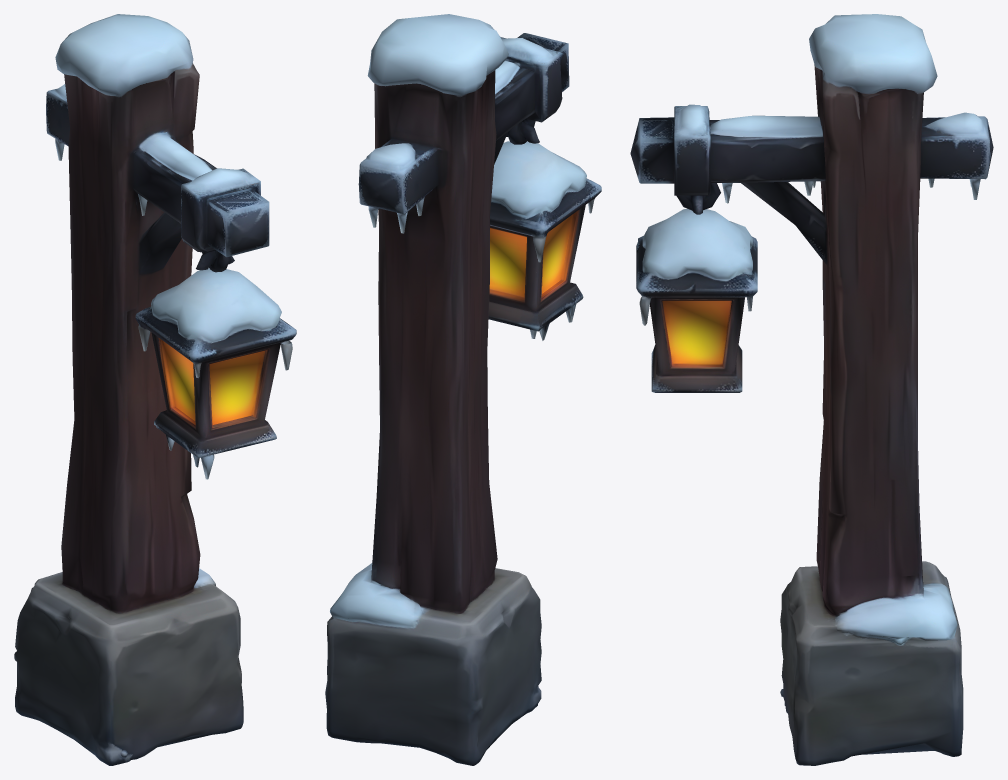
Rendered from model_url.glb.
The picture shows the model from 3 angles, left to right: view 1: azimuth 30°, elevation 25°; view 2: azimuth 150°, elevation 25°; view 3: azimuth 270°, elevation 25°; orthographic projection.
Parts seen in each view (by area): view 1: tripo_node_6f8e7f9d-3e53-4f70-9c07-f88645c539a0; view 2: tripo_node_6f8e7f9d-3e53-4f70-9c07-f88645c539a0; view 3: tripo_node_6f8e7f9d-3e53-4f70-9c07-f88645c539a0.
Part boxes in pixels (left/top/right/bottom): tripo_node_6f8e7f9d-3e53-4f70-9c07-f88645c539a0: left=14, top=14, right=296, bottom=765; tripo_node_6f8e7f9d-3e53-4f70-9c07-f88645c539a0: left=325, top=14, right=601, bottom=765; tripo_node_6f8e7f9d-3e53-4f70-9c07-f88645c539a0: left=630, top=14, right=993, bottom=765.
Bounding box in the file's own units: 0.2427 × 1 × 0.4697.
1 material, 1 textured.
